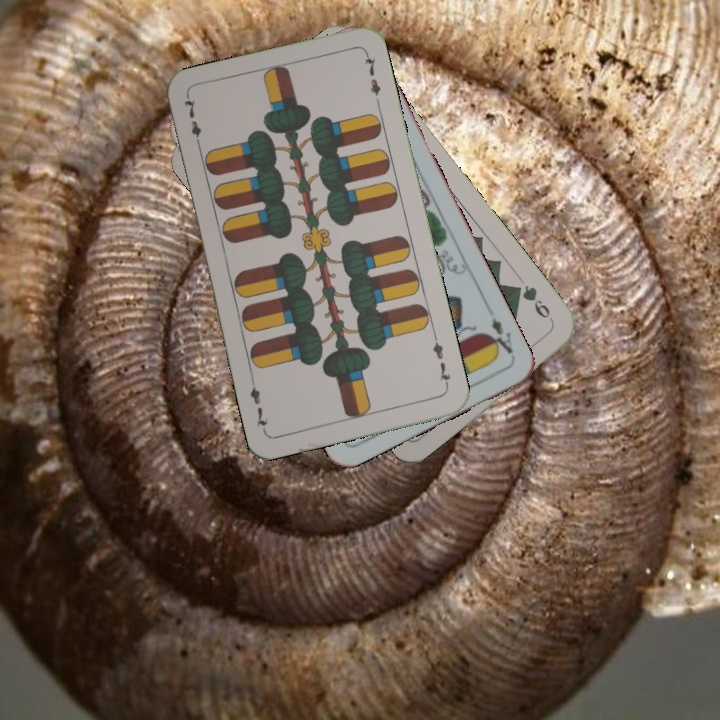E7: (428, 332, 454, 390), (180, 93, 204, 152)
EA: (482, 311, 517, 359)
G9: (509, 280, 557, 326)
